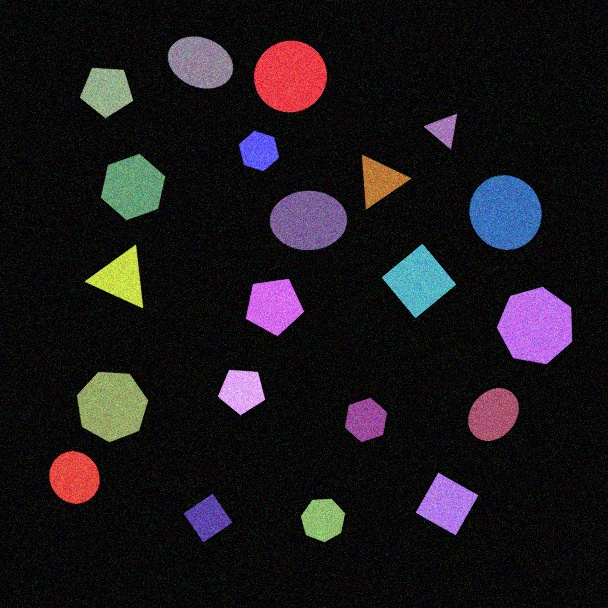Circulo: (469, 174, 542, 251), (253, 40, 328, 113), (49, 450, 100, 505)
Elipse: (269, 190, 348, 251), (167, 36, 234, 89), (467, 387, 520, 442)
Heptagono: (496, 286, 573, 365), (76, 371, 149, 443), (300, 498, 346, 543)
Hexagono: (100, 153, 166, 221), (344, 397, 388, 443), (238, 130, 280, 172)
Pentagono: (245, 278, 305, 337), (79, 67, 134, 119), (217, 369, 266, 416)
Quadrado: (381, 243, 457, 319), (415, 472, 479, 536), (183, 493, 233, 543)
Triangulo: (85, 244, 144, 309), (361, 154, 412, 210), (424, 113, 458, 150)
